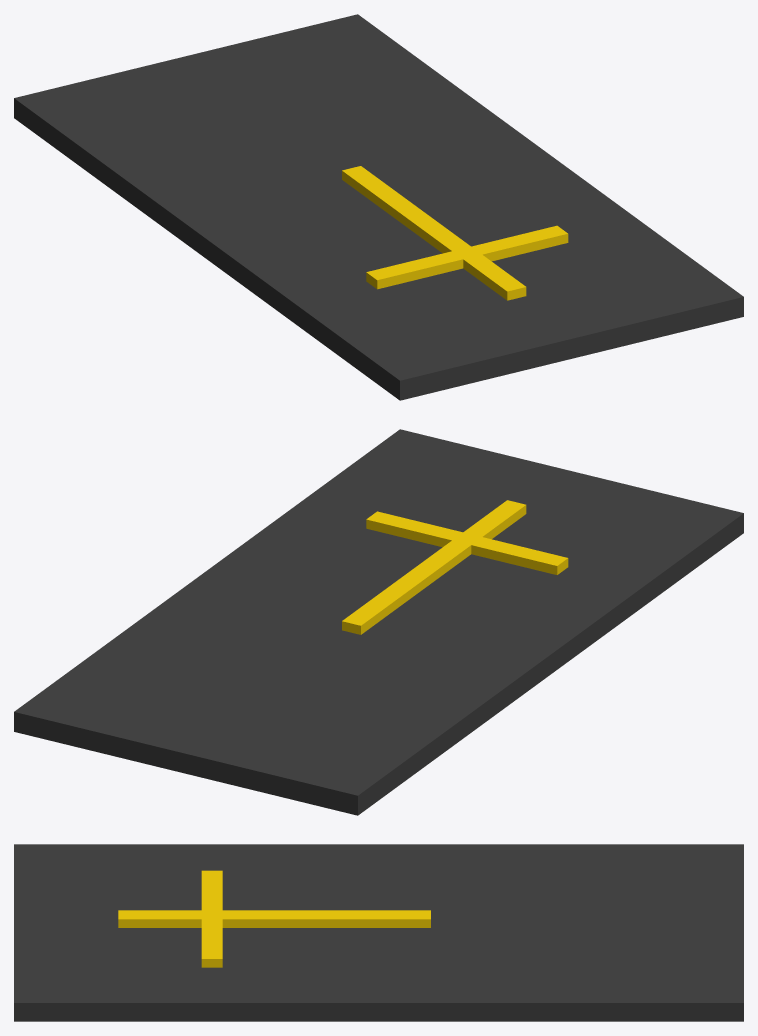
Rendered from GraveDoor.gltf.
The picture shows the model from 3 angles, top to bottom: view 1: azimuth 30°, elevation 25°; view 2: azimuth 150°, elevation 25°; view 3: azimuth 270°, elevation 25°; orthographic projection. The views are drawn at different scales.
Parts seen in each view (by area): view 1: Cube.011; view 2: Cube.011; view 3: Cube.011.
Part boxes in pixels (x1=…): Cube.011: x1=14, y1=14, x2=743, y2=400; Cube.011: x1=14, y1=429, x2=743, y2=815; Cube.011: x1=14, y1=844, x2=743, y2=1021.
Bounding box in the file's own units: 1.8 × 0.1458 × 3.5.
